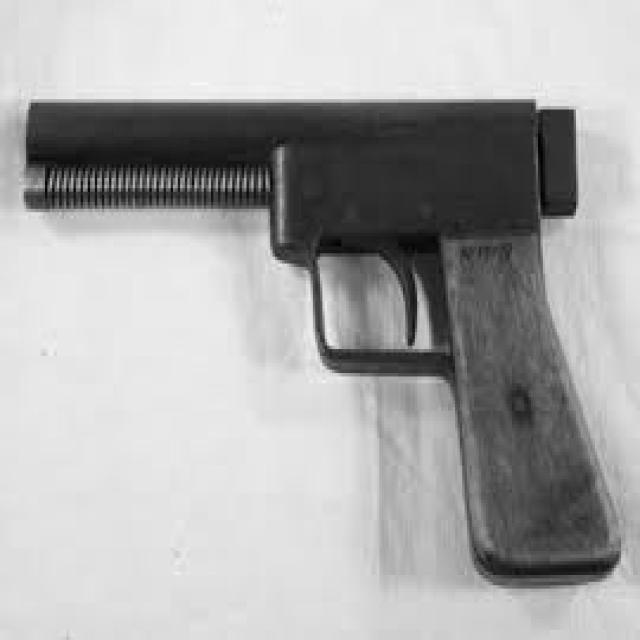gun: (21, 92, 621, 582)
